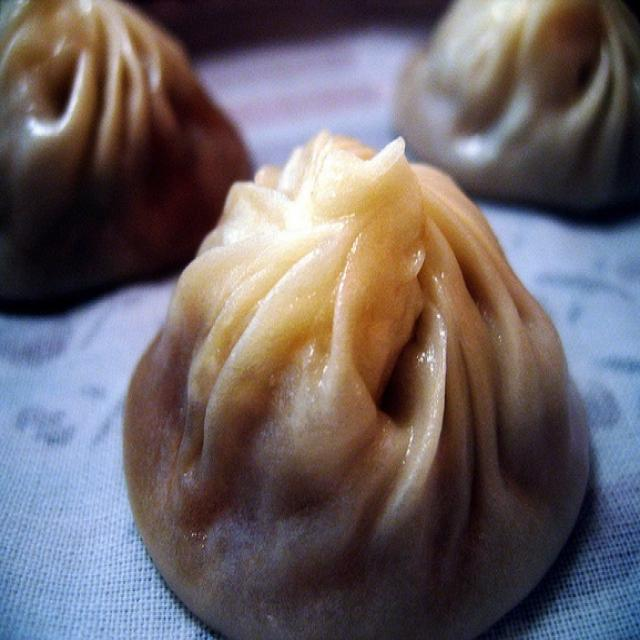带馅早点: (11, 7, 609, 621)
